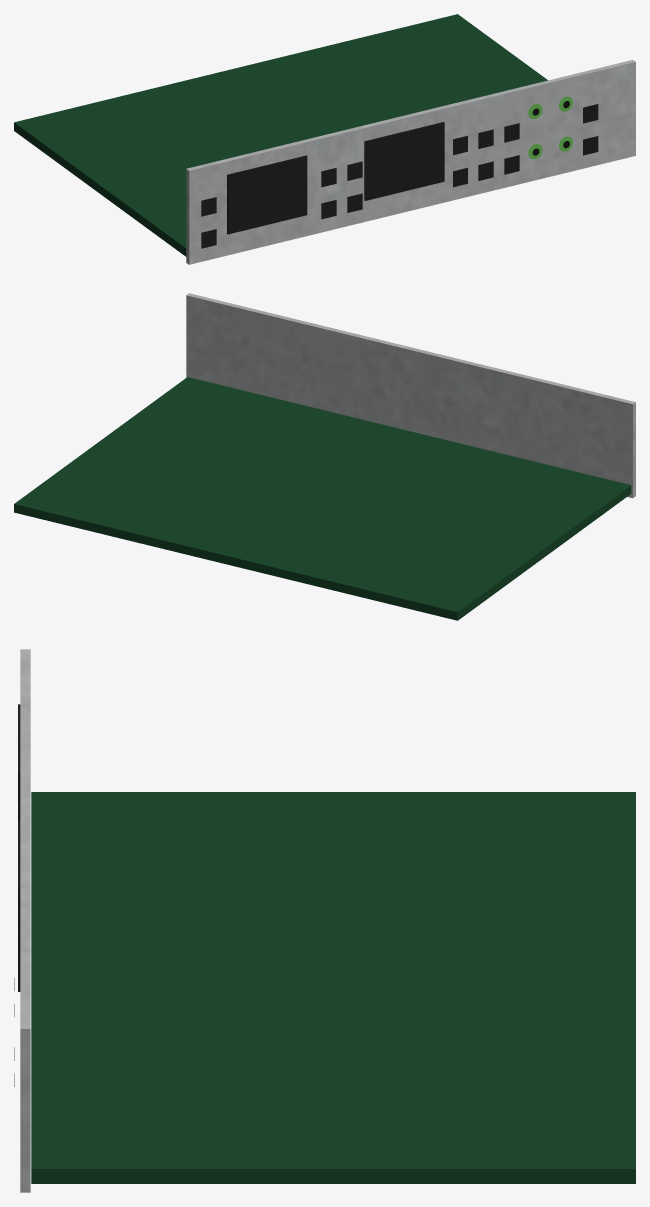
Rendered from R887V.far.glb.
3 renders of one model, top to bottom at view 1: azimuth 30°, elevation 25°; view 2: azimuth 150°, elevation 25°; view 3: azimuth 270°, elevation 25°, orthographic. The views are drawn at different scales.
Visible parts, largest first — view 1: Card_far; view 2: Card_far; view 3: Card_far.
Part boxes in pixels (x1,y1,x2,y2): Card_far: (14, 14, 635, 264); Card_far: (14, 293, 635, 620); Card_far: (18, 649, 635, 1192).
Bounding box in the file's own units: 0.0876 × 0.0176 × 0.0606.
Materials: 3 (2 with a texture image).
